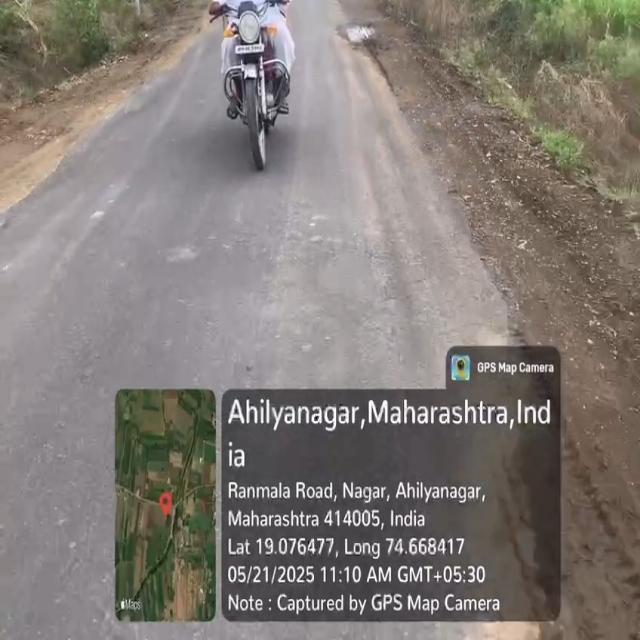pothole: (344, 17, 374, 45)
